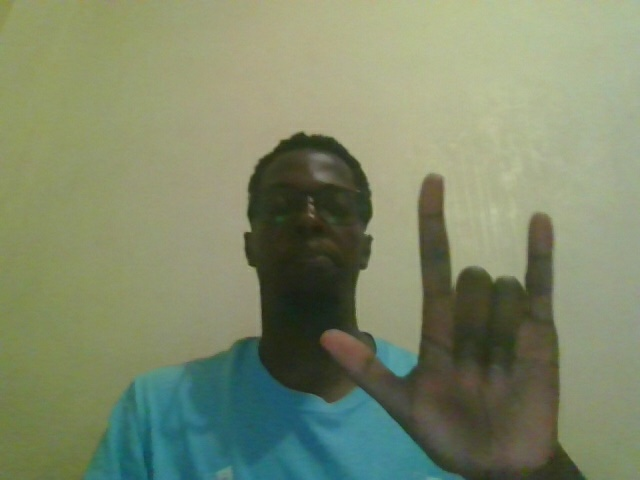I Love You: (315, 170, 613, 477)
